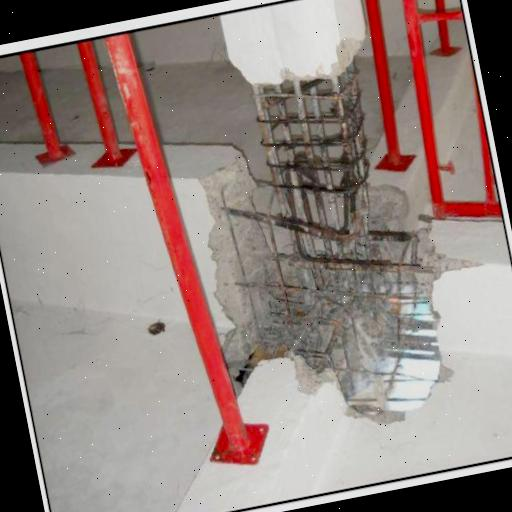spalling: (238, 49, 410, 373)
